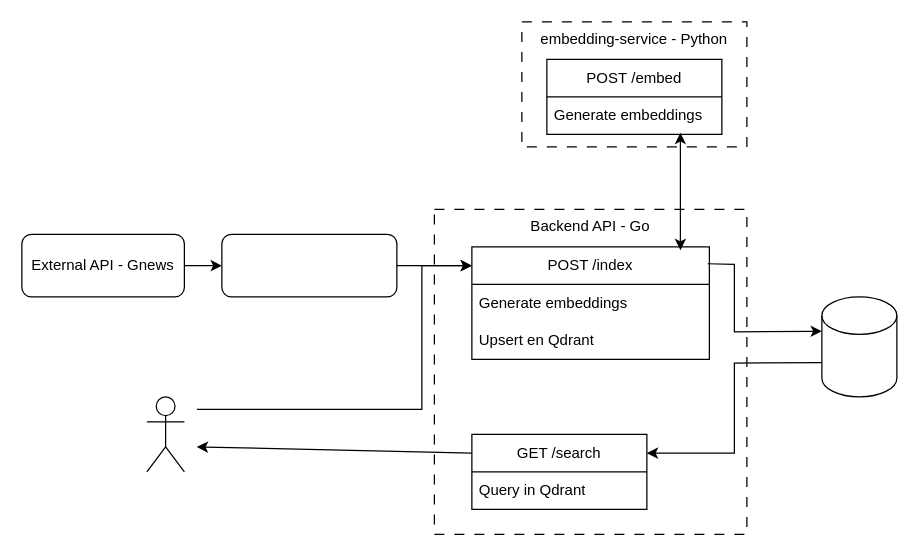
The diagram is 919 pixels wide and 556 high, and some of its shapes have lost their labels. Each missing label, with the centre of its shape:
"Actor" goes at (x=165, y=434).
"Ingestion Worker - Go" goes at (x=309, y=265).
"Qdrant" goes at (x=859, y=346).
